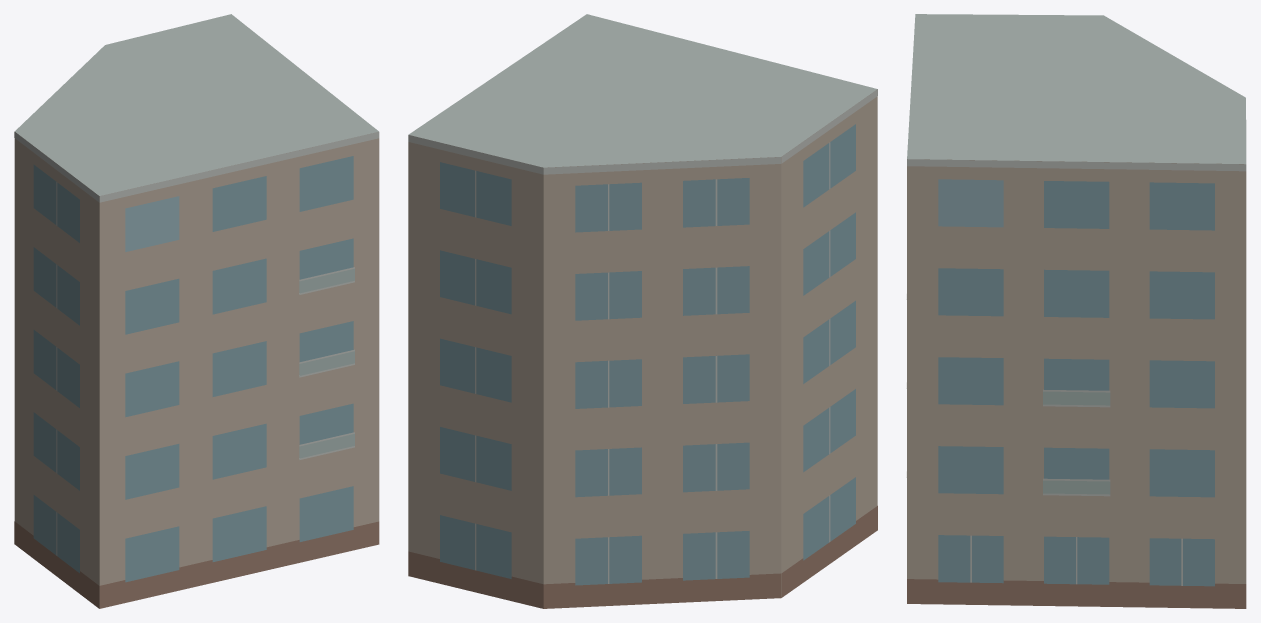
The model's file is survey-upis-33024895.glb.
3 renders of one model, left to right at view 1: azimuth 30°, elevation 25°; view 2: azimuth 150°, elevation 25°; view 3: azimuth 270°, elevation 25°, orthographic. The views are drawn at different scales.
Visible parts, largest first — view 1: survey-upis-33024895.tmp; view 2: survey-upis-33024895.tmp; view 3: survey-upis-33024895.tmp.
Part boxes in pixels (box(x1,y1,x2,y2)): survey-upis-33024895.tmp: box(14, 14, 379, 608); survey-upis-33024895.tmp: box(408, 14, 877, 608); survey-upis-33024895.tmp: box(906, 14, 1246, 608).
Size of the model in its own units: 11.05 by 15.25 by 10.57.
